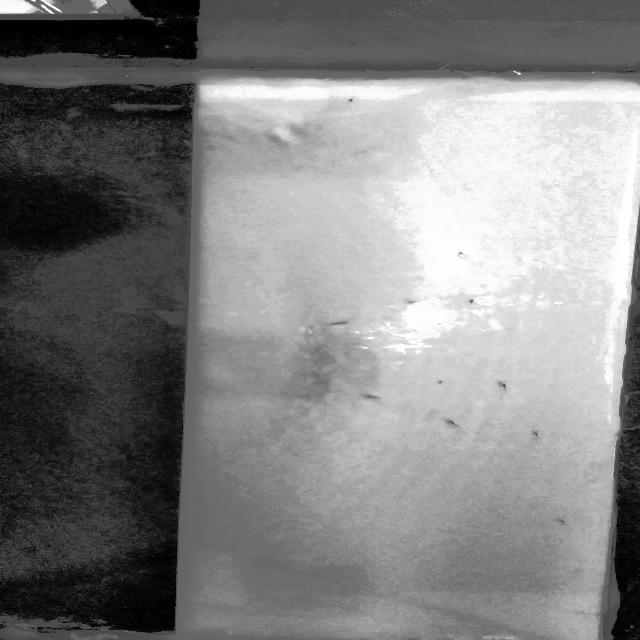shrimp: (524, 502, 576, 528), (314, 313, 366, 330), (422, 372, 452, 389), (441, 417, 468, 434), (491, 377, 518, 392), (351, 391, 393, 400), (462, 296, 487, 310), (338, 94, 367, 106), (526, 428, 550, 442), (398, 296, 428, 304)
